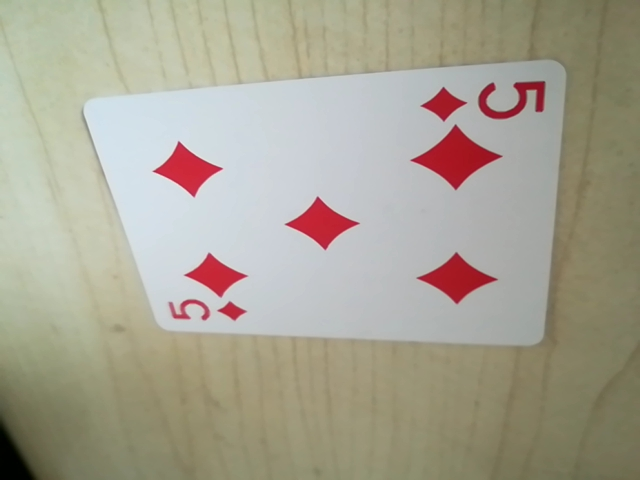fk 5: (419, 73, 548, 128), (162, 292, 249, 331)
